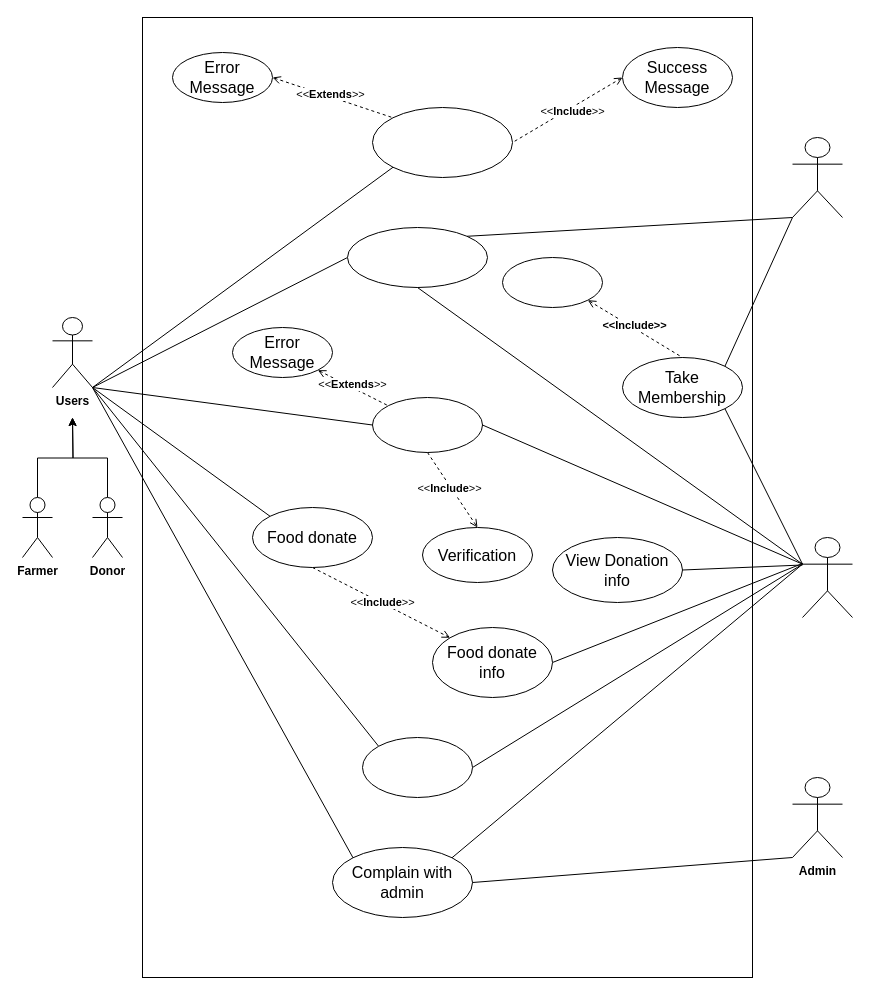
Some shapes in this 872 by 995 pixel diagram are drawn without their labels. The shapes that lost their labels are listed below. From the top down, each one's centre as x and y in pixels, then its label:
At (442,142): "Register details".
At (817,177): "NGO".
At (417,257): "View History".
At (552,282): "Privilege".
At (427,424): "Login".
At (827,577): "Volunteer".
At (417,767): "Donation rating".
